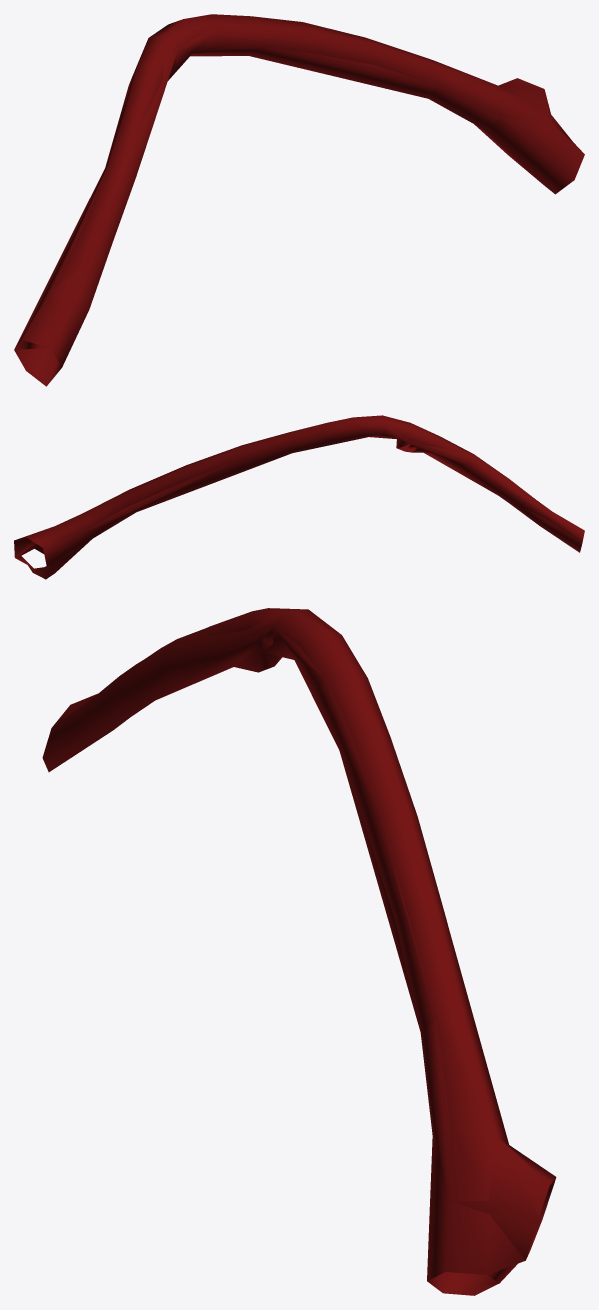
Rendered from L iliaca externa.fbx.
The picture shows the model from 3 angles, top to bottom: view 1: azimuth 30°, elevation 25°; view 2: azimuth 150°, elevation 25°; view 3: azimuth 270°, elevation 25°; orthographic projection. The views are drawn at different scales.
Visible parts, largest first — view 1: L iliaca externa, L iliaca externa low; view 2: L iliaca externa, L iliaca externa low; view 3: L iliaca externa, L iliaca externa low.
Part boxes in pixels (bbox=[...]): L iliaca externa: bbox=[14, 14, 584, 385]; L iliaca externa low: bbox=[14, 20, 574, 386]; L iliaca externa: bbox=[14, 415, 584, 579]; L iliaca externa low: bbox=[15, 416, 581, 571]; L iliaca externa: bbox=[42, 608, 556, 1295]; L iliaca externa low: bbox=[56, 609, 555, 1293].
Size of the model in its own units: 10.57 by 4.42 by 5.1.
